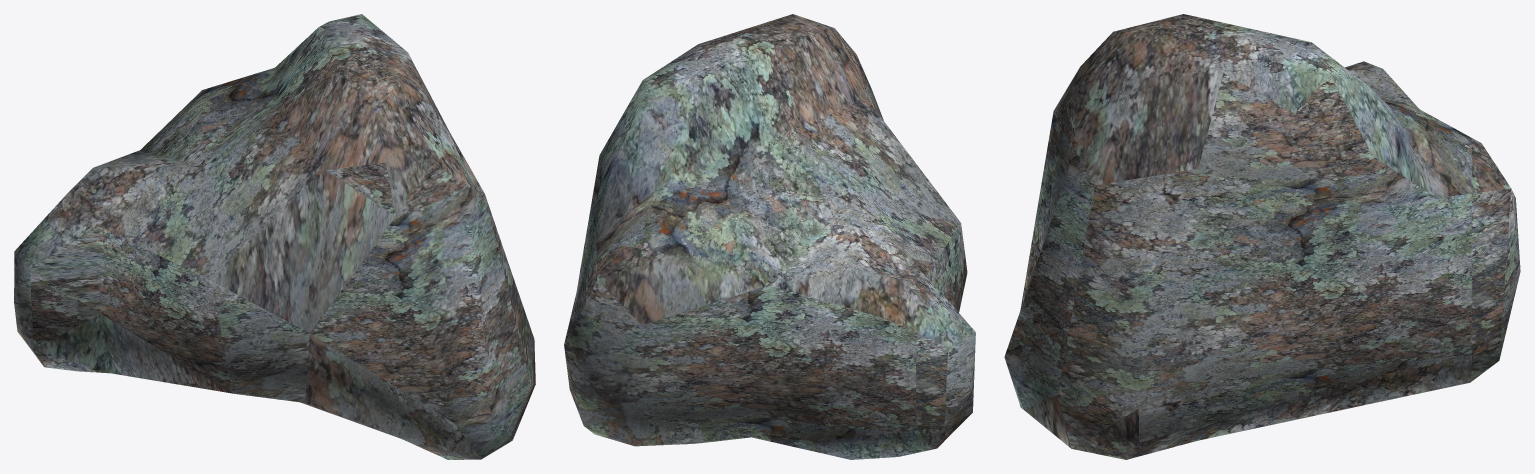
The model's file is mossrock01.glb.
The picture shows the model from 3 angles, left to right: view 1: azimuth 30°, elevation 25°; view 2: azimuth 150°, elevation 25°; view 3: azimuth 270°, elevation 25°; orthographic projection. The views are drawn at different scales.
Parts seen in each view (by area): view 1: $ColladaAutoName$_1; view 2: $ColladaAutoName$_1; view 3: $ColladaAutoName$_1.
Part boxes in pixels (x1=…): $ColladaAutoName$_1: x1=14, y1=14, x2=535, y2=459; $ColladaAutoName$_1: x1=564, y1=14, x2=975, y2=459; $ColladaAutoName$_1: x1=1004, y1=14, x2=1520, y2=459.
Bounding box in the file's own units: 3.93 × 3.4 × 4.
Materials: 1 (1 with a texture image).
